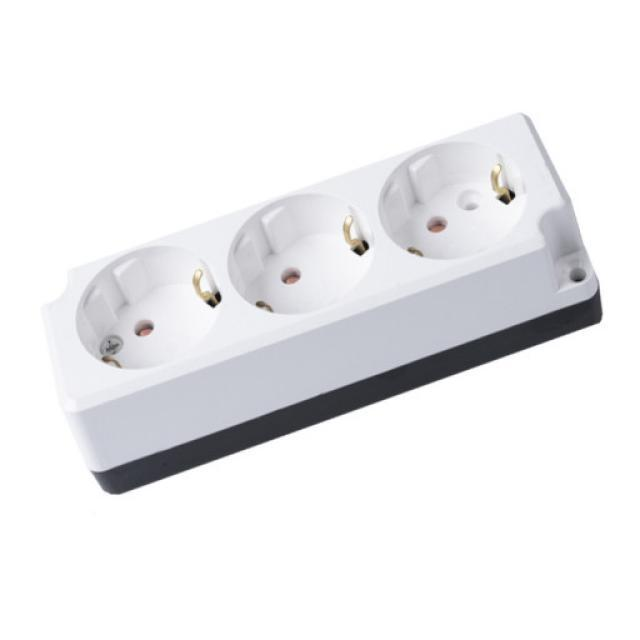typeb: (29, 111, 617, 436)
